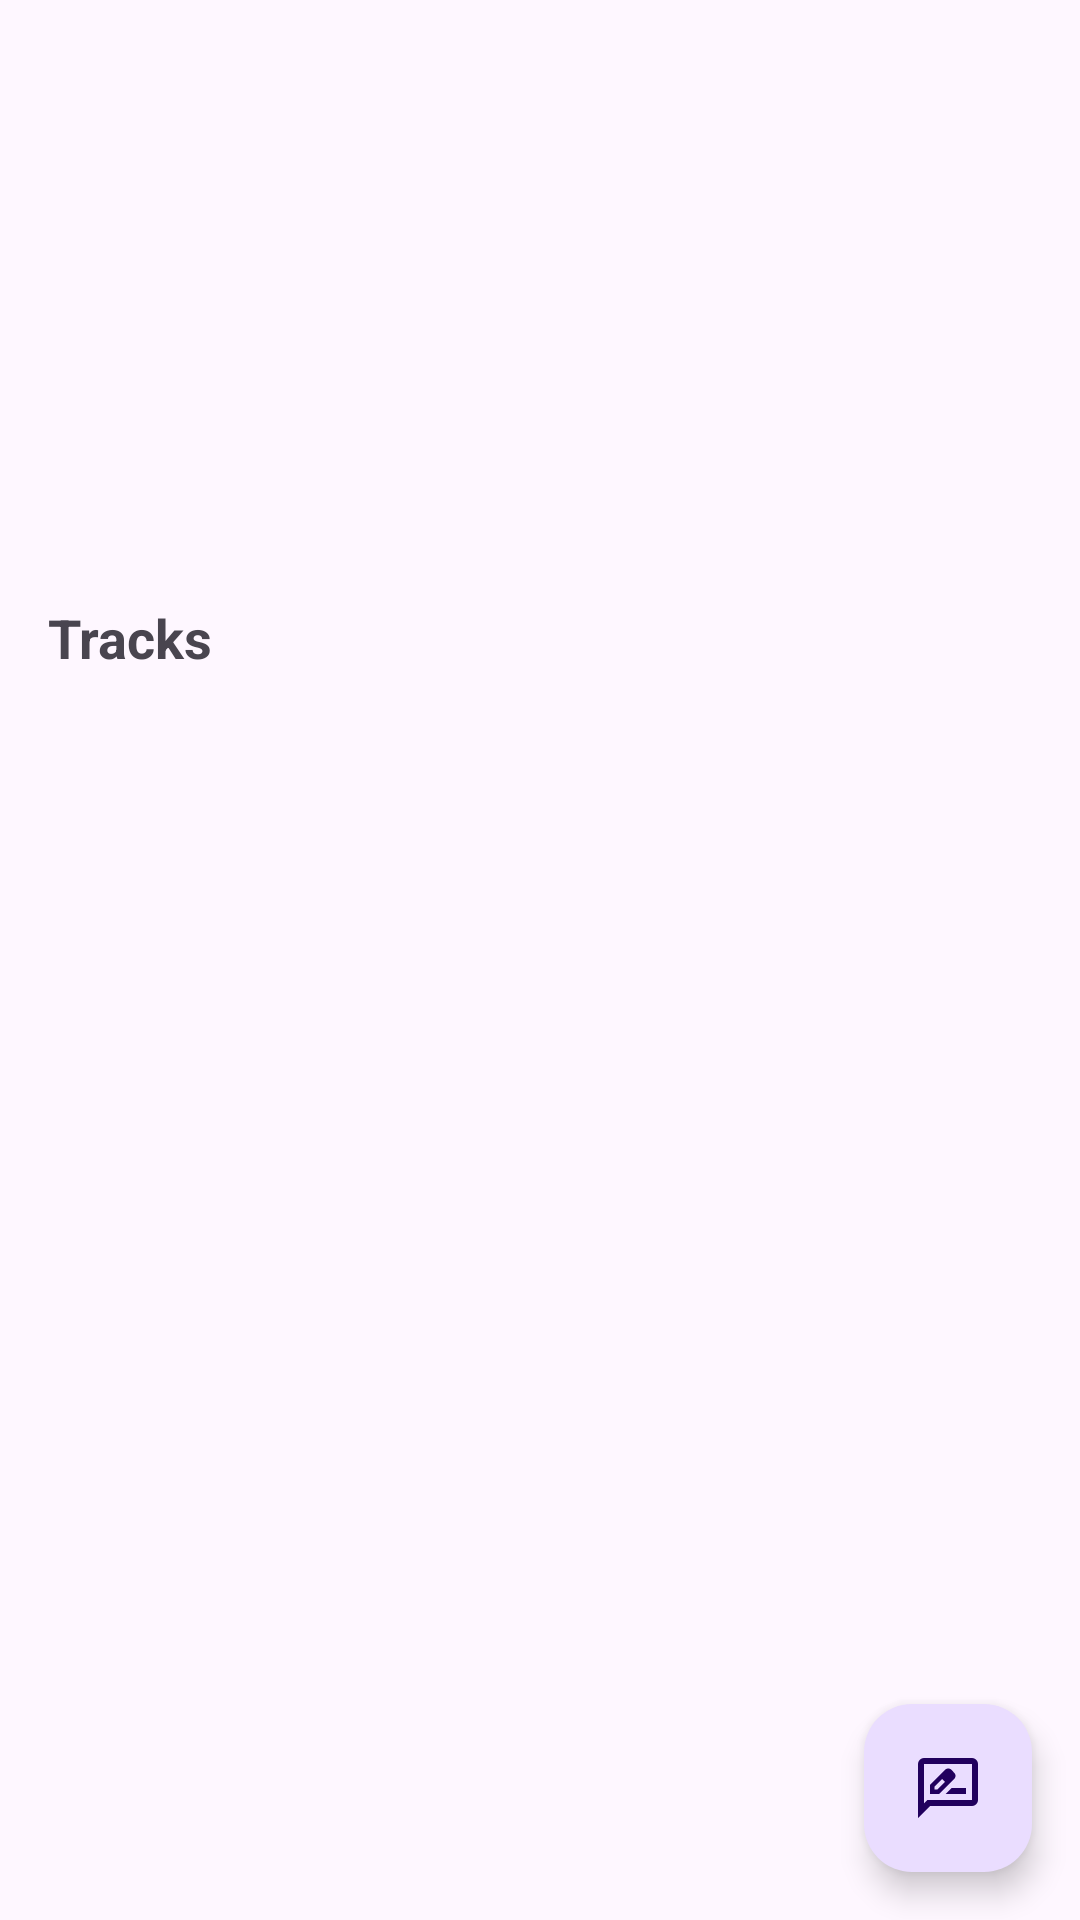

Icon click points for this 1080w x 1920h phone screenshot, format (x,y):
Agregar un comentario al álbum: (948,1788)
